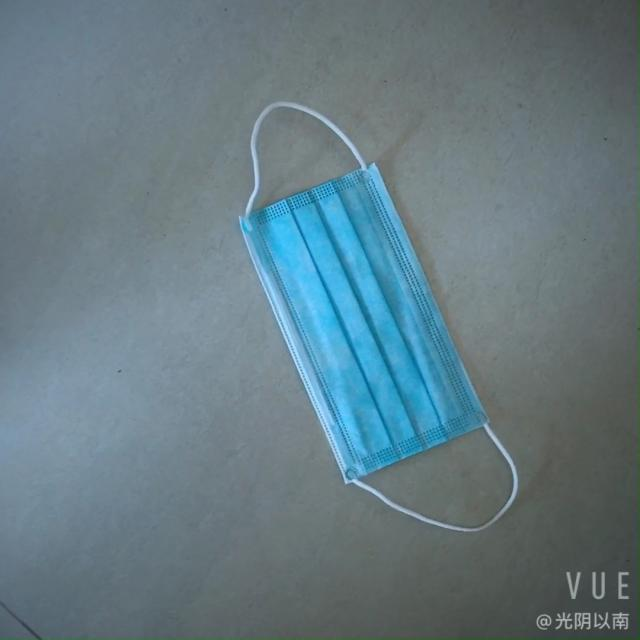face mask: (210, 154, 504, 489)
